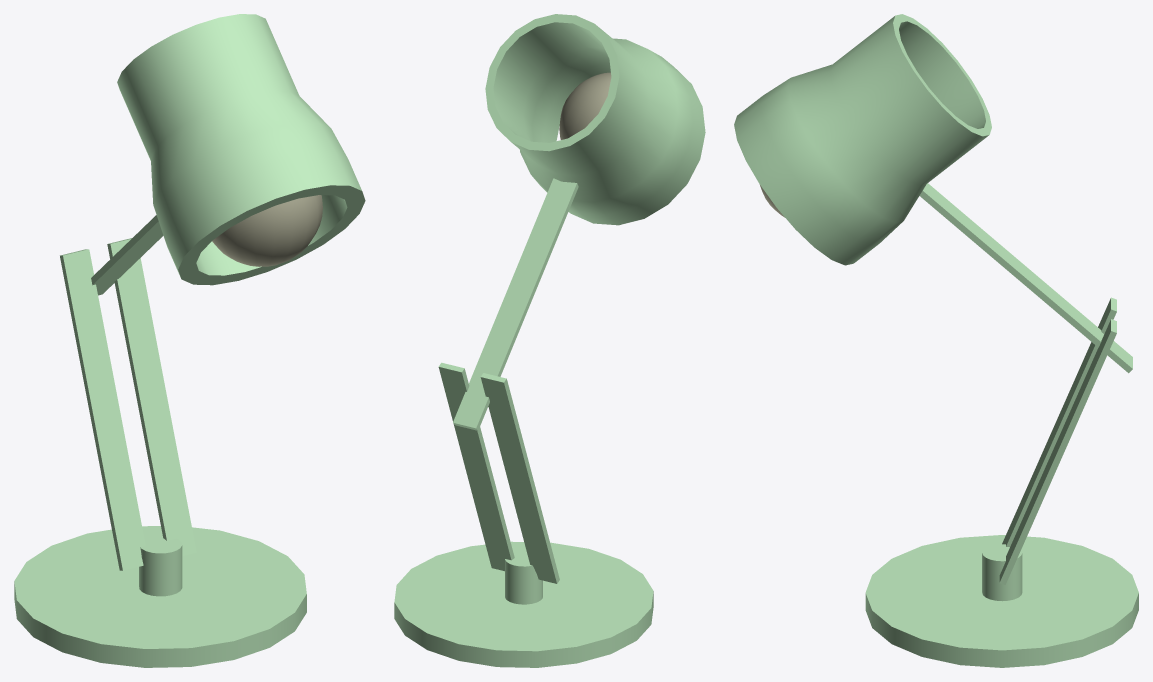
Rendered from desk lamp.fbx.
3 views of the same model, side by side, from view 1: azimuth 30°, elevation 25°; view 2: azimuth 150°, elevation 25°; view 3: azimuth 270°, elevation 25° (orthographic). The views are drawn at different scales.
Visible parts, largest first — view 1: polySurface1, pCylinder3, pCube4, polySurface3, polySurface2; view 2: polySurface1, pCylinder3, pCube4, polySurface2, polySurface3; view 3: polySurface1, pCylinder3, pCube4, polySurface2.
Boxes of the visible parts, bbox=[...] form: polySurface1: bbox=[117, 14, 365, 285]; pCylinder3: bbox=[14, 526, 306, 667]; pCube4: bbox=[60, 238, 196, 570]; polySurface3: bbox=[212, 195, 322, 266]; polySurface2: bbox=[91, 215, 163, 295]; polySurface1: bbox=[485, 14, 705, 225]; pCylinder3: bbox=[394, 541, 653, 667]; pCube4: bbox=[438, 362, 559, 583]; polySurface2: bbox=[453, 178, 578, 430]; polySurface3: bbox=[559, 72, 611, 139]; polySurface1: bbox=[734, 14, 991, 265]; pCylinder3: bbox=[865, 535, 1138, 667]; pCube4: bbox=[999, 297, 1116, 584]; polySurface2: bbox=[919, 183, 1132, 373].
Bounding box in the file's own units: 9.67 × 22.91 × 14.32.
